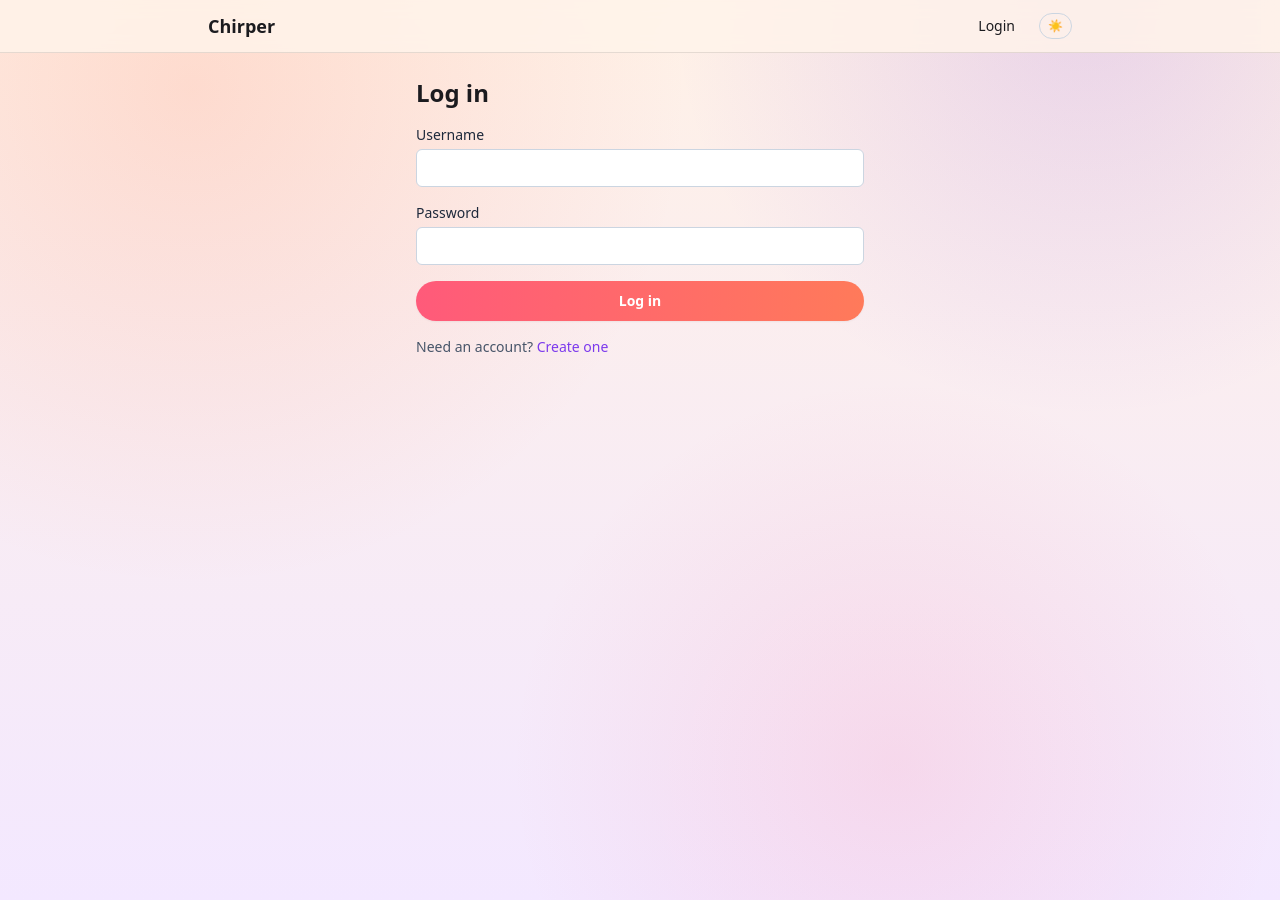
Test: navigation flow & mock data › shows an empty state when there are no tweets yet
Type "me" into the field labelled "Username". click: (640,168)
box: [416,149,864,187]
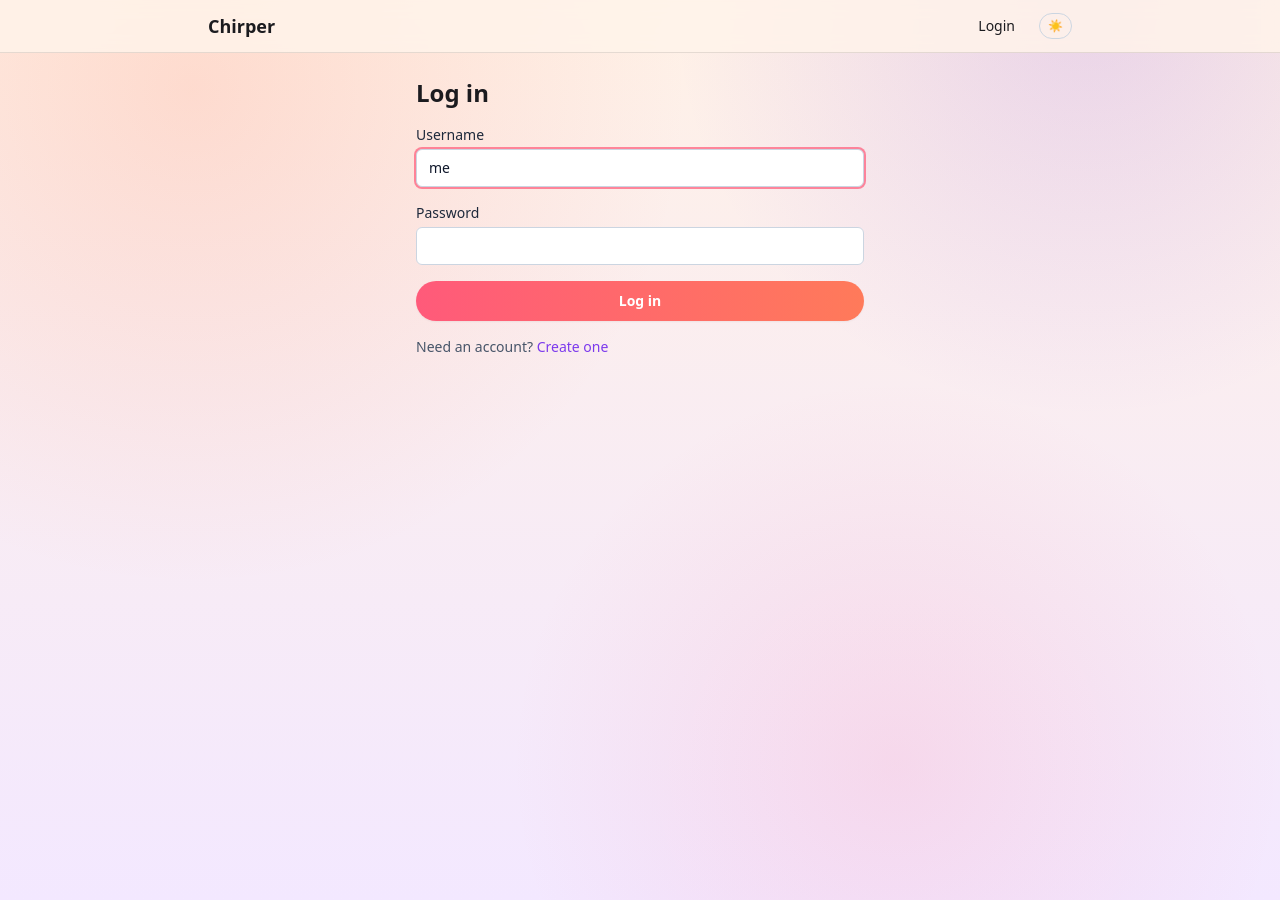
Type "password" into the password field labelled "Password". click: (640,246)
box: [416,227,864,265]
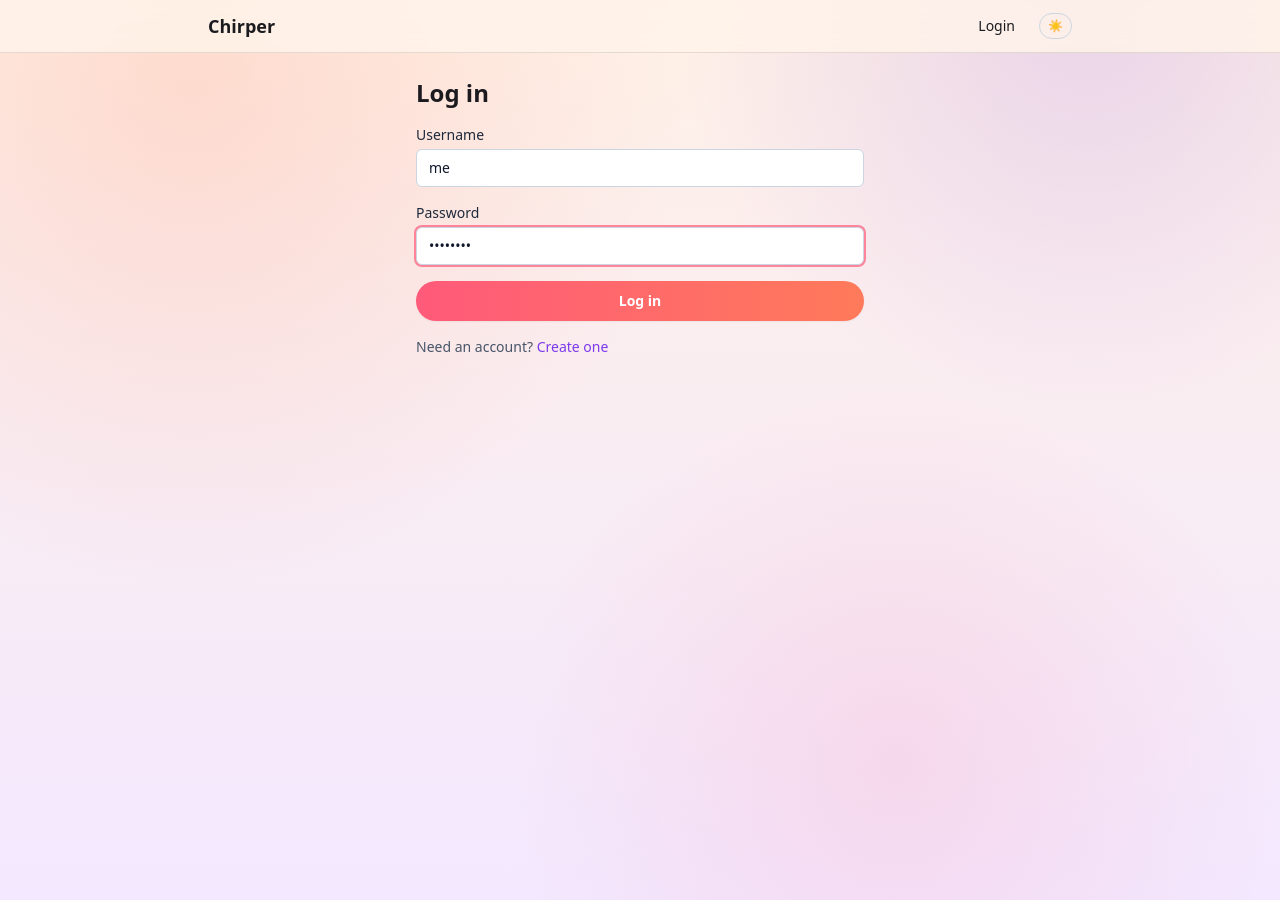
Click the button "Log in". click: (640,301)
box: [416,281,864,321]
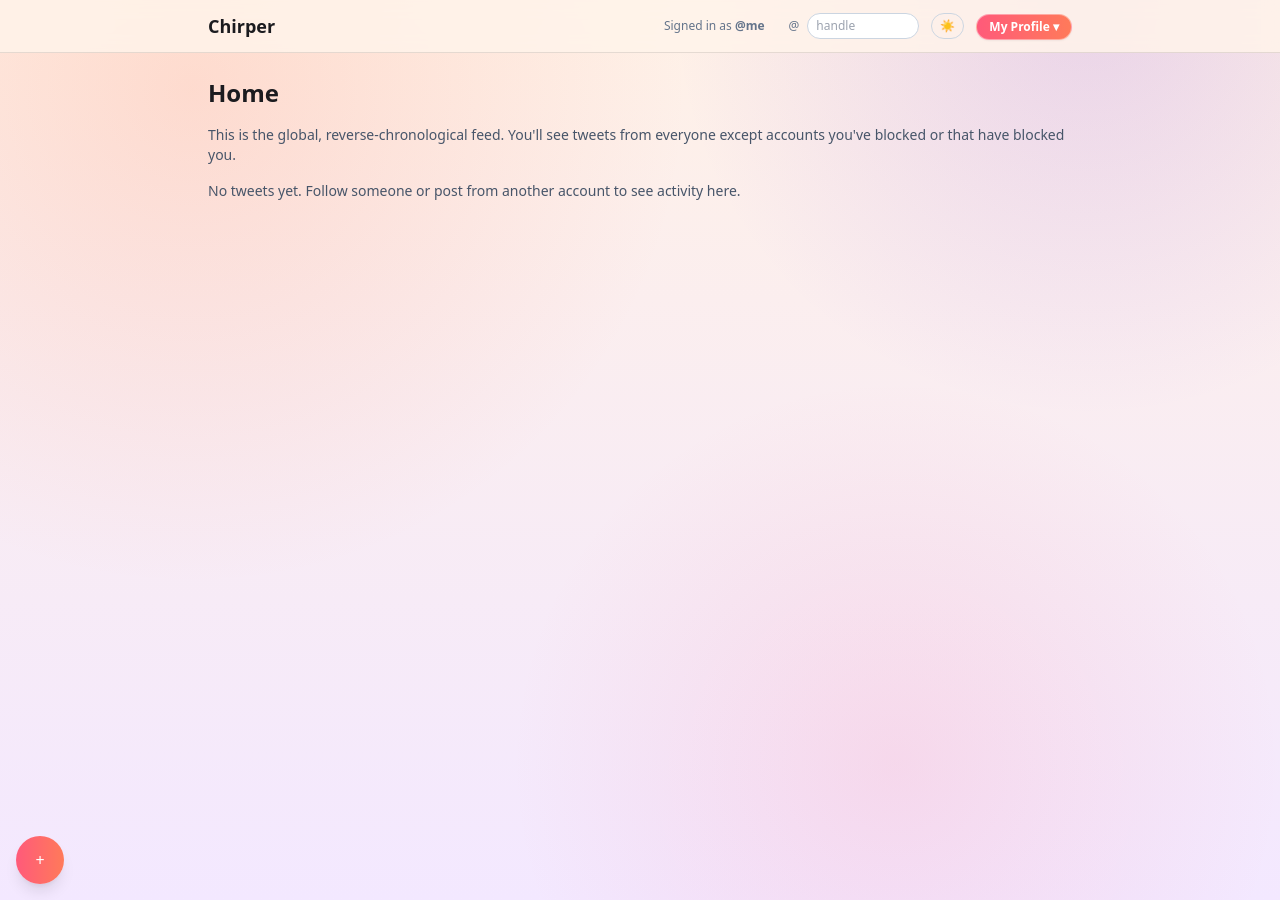
Expected: the text "No tweets yet" is shown, [208,181,740,200]
